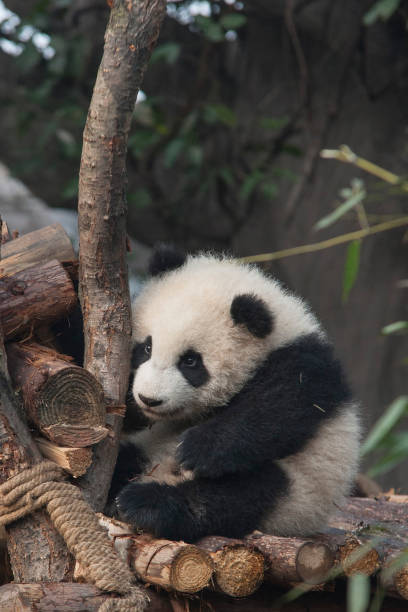panda: (107, 216, 322, 446)
